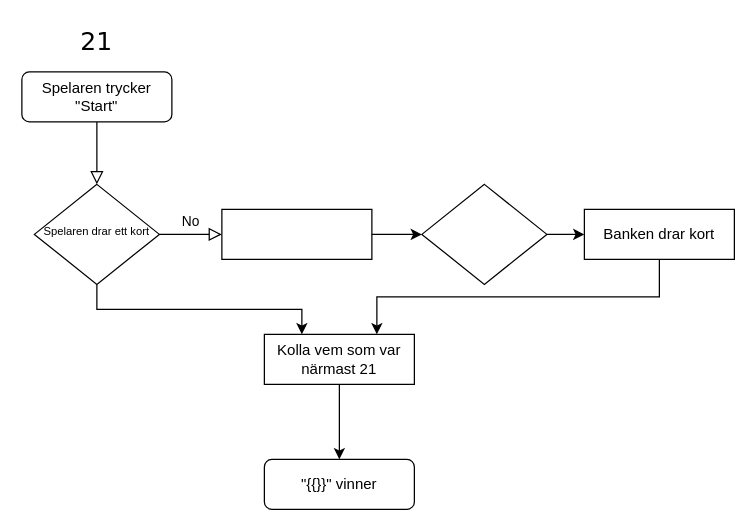
The diagram is 756 pixels wide and 531 high, and some of its shapes have lost their labels. Each missing label, with the box of its shape:
Bankens tur: (421, 183, 547, 284)
Stanna: (221, 208, 372, 259)
